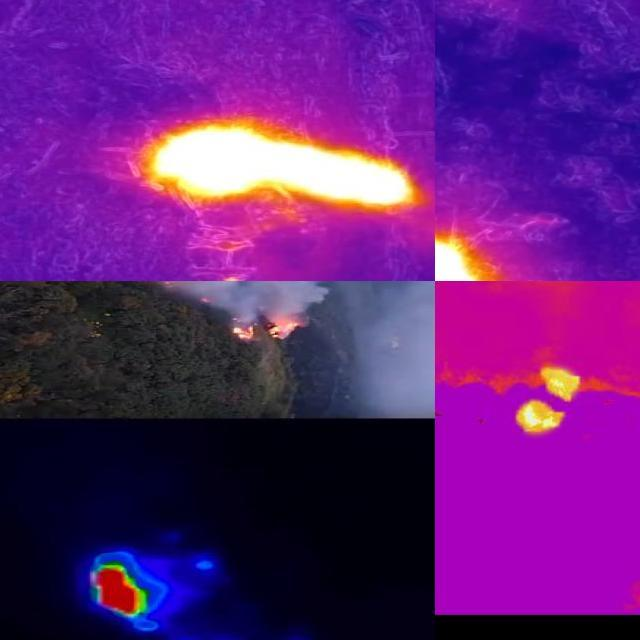fire: (143, 119, 422, 214), (510, 357, 585, 439), (80, 559, 152, 620), (436, 230, 508, 282)
